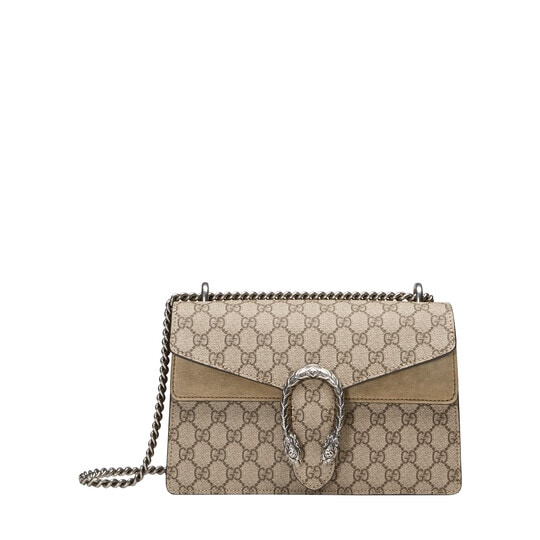Gucci: (144, 271, 474, 494), (265, 348, 364, 473), (209, 311, 392, 371)
